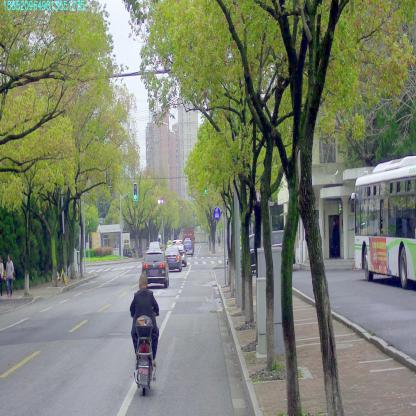traffic-light: (133, 184, 137, 200), (204, 176, 207, 195)
